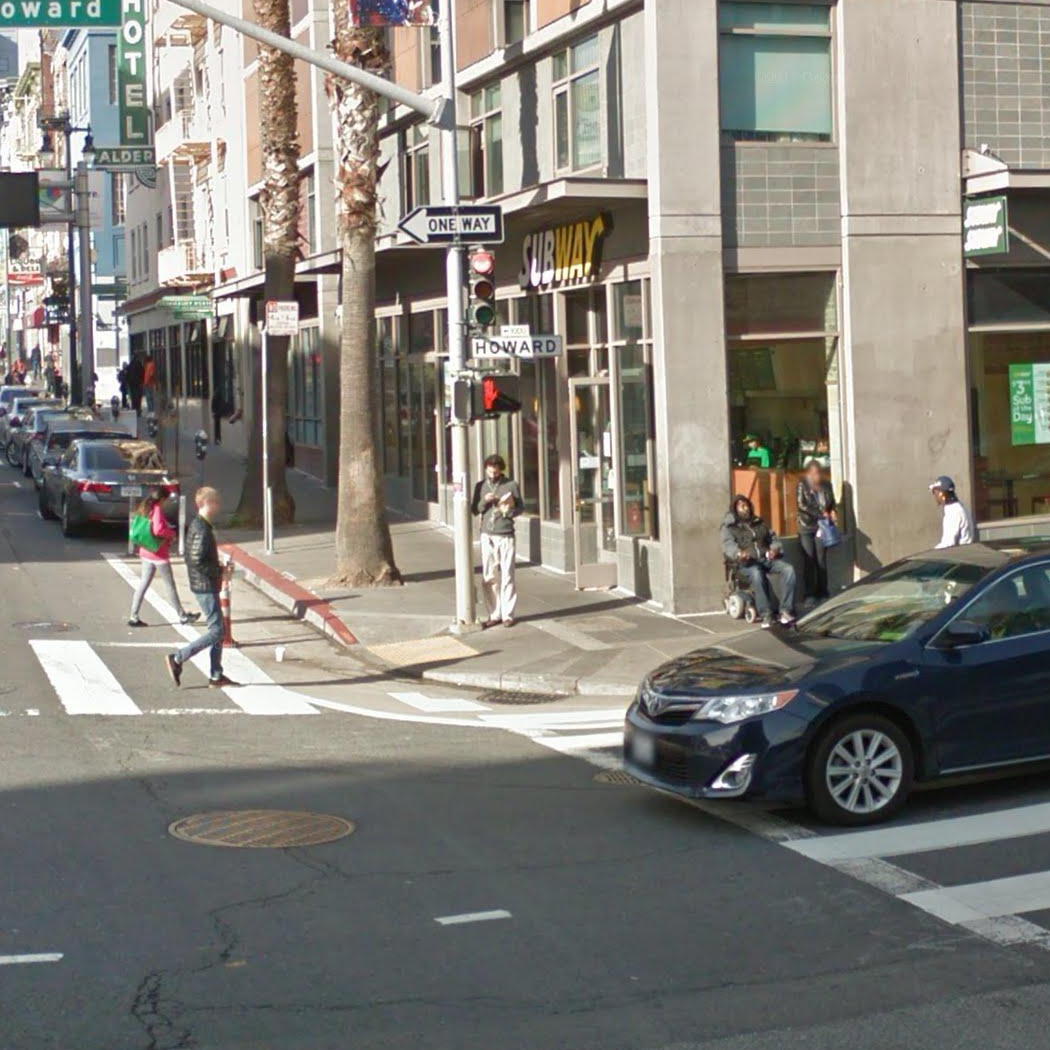No Parking: (263, 300, 301, 338)
